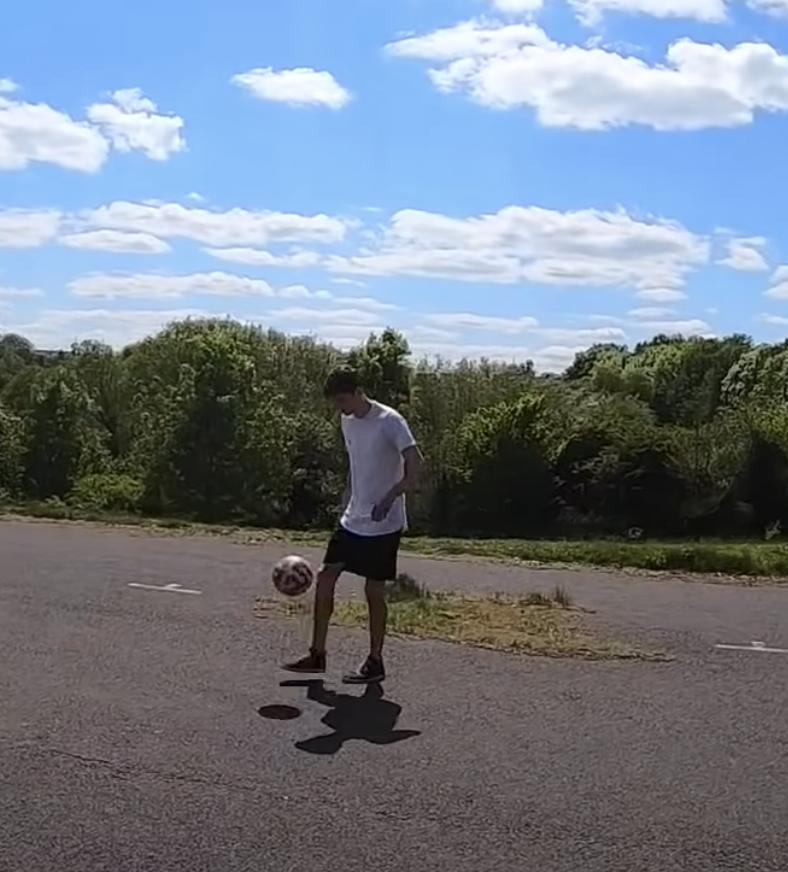ball: (272, 557, 312, 597)
foot: (342, 655, 385, 684), (280, 649, 326, 673)
person: (277, 368, 416, 680)
